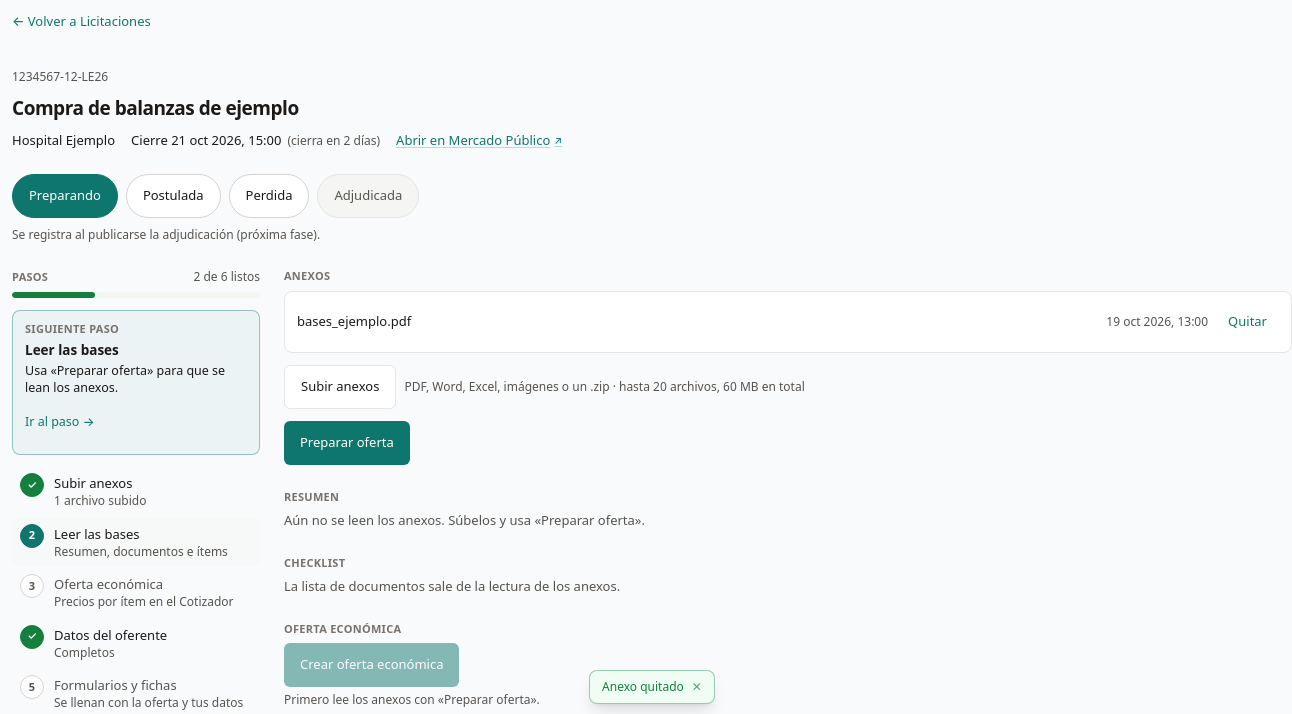
Test: TenderPage — preparing › says the budget refusal in Spanish
Step 1. Click the button "Preparar oferta" → coordinates (347, 442), box [284,420,410,464]
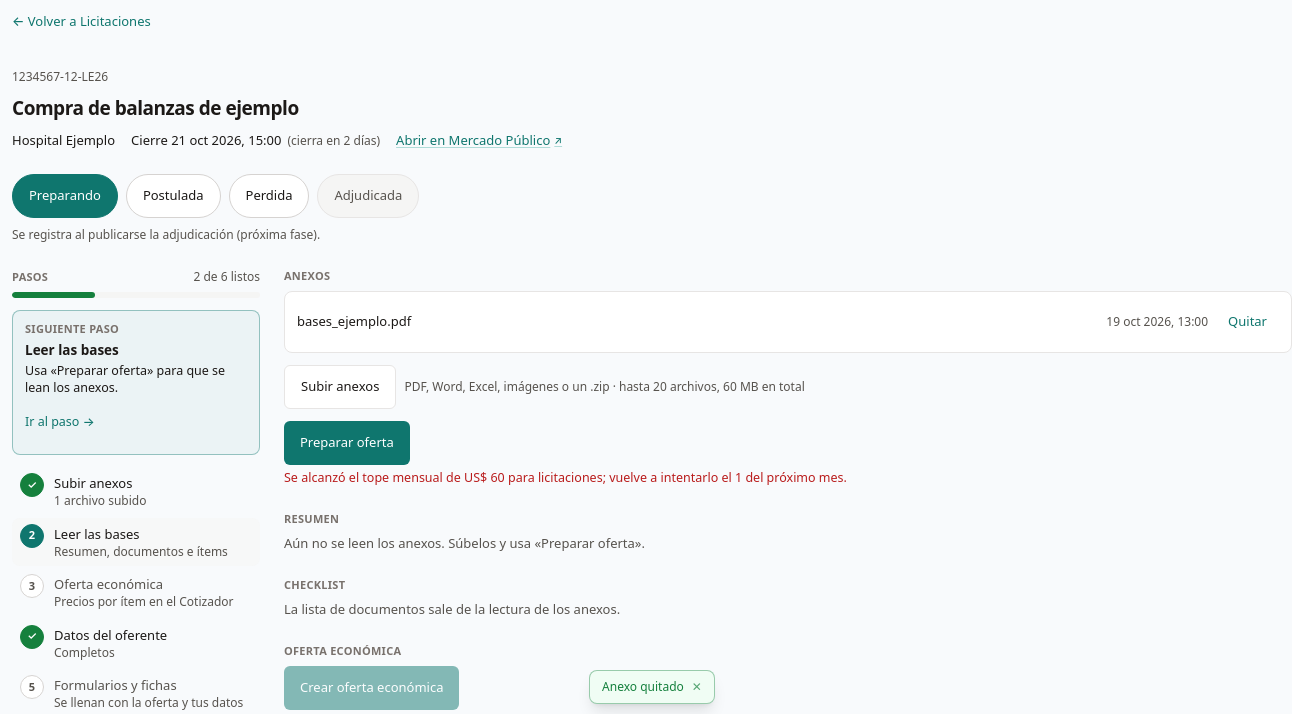
expect the text "Se alcanzó el tope mensual de US$ 60 para licitaciones; vuelve a intentarlo el 1 del próximo mes." is shown: met, box [284,468,847,486]
